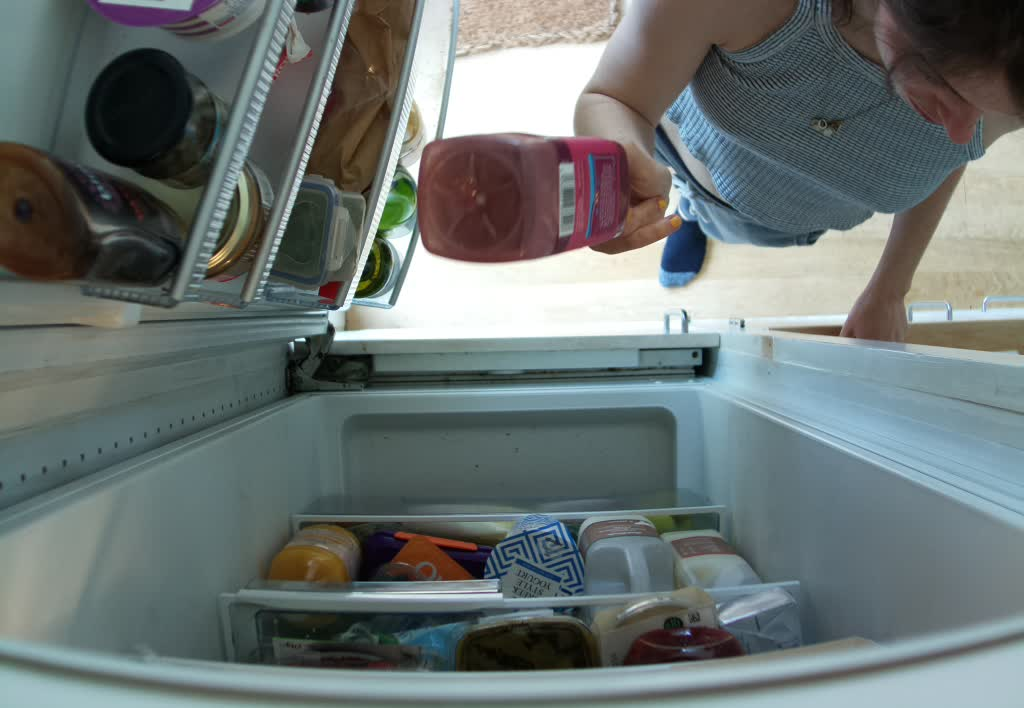juice: (415, 133, 638, 261)
